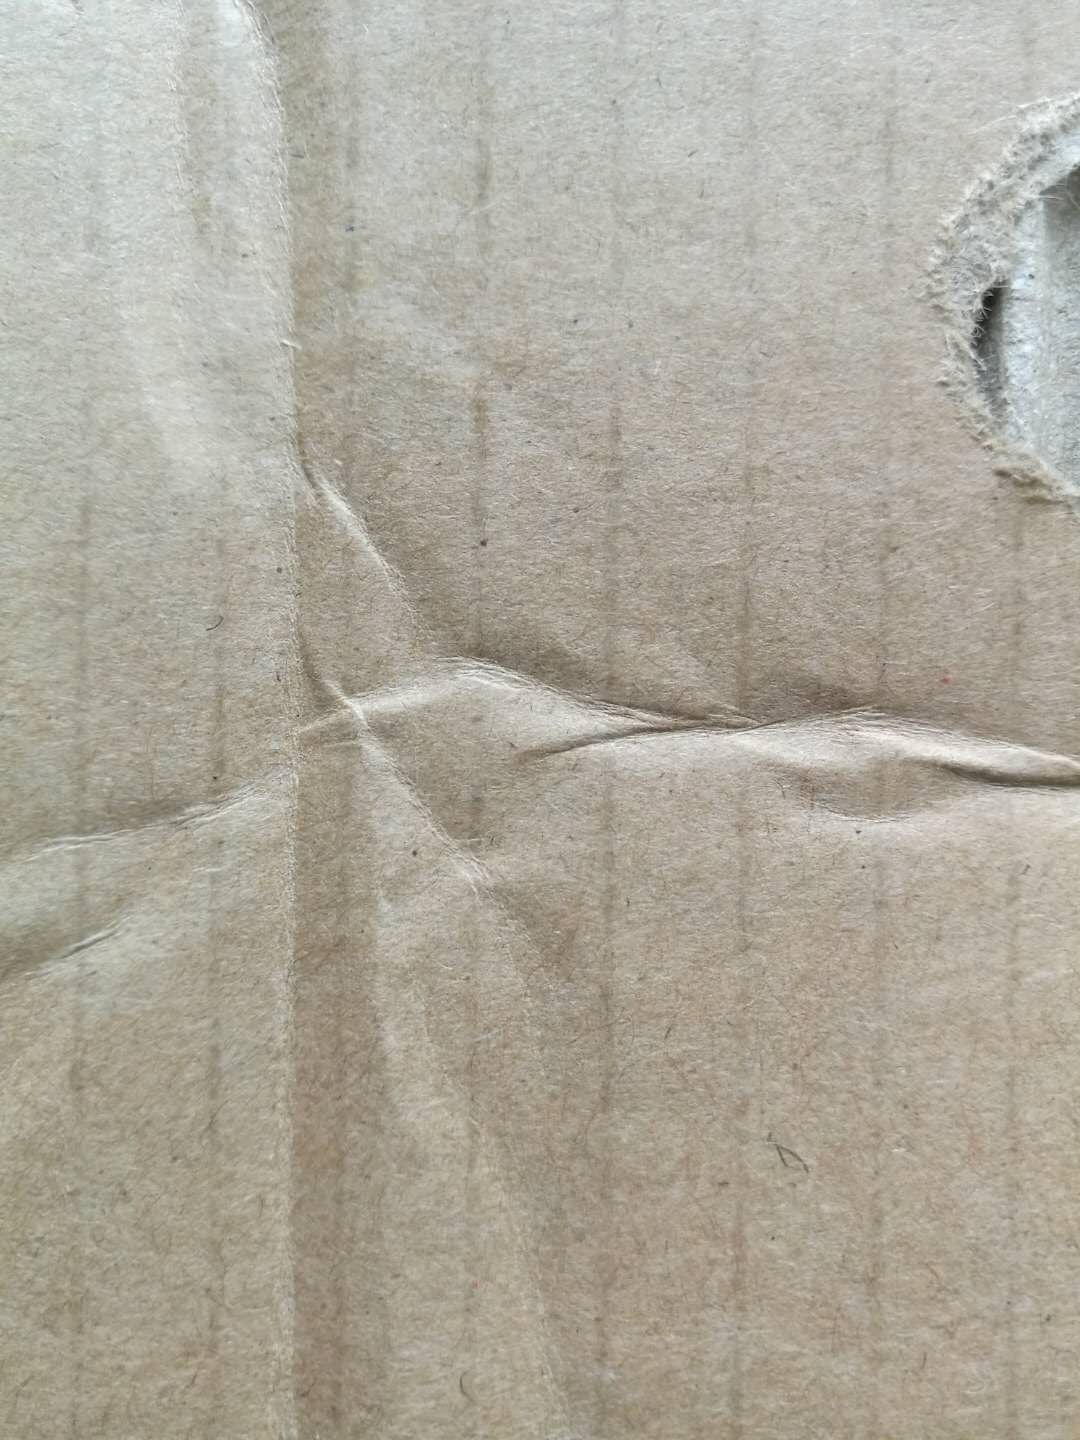defect: (5, 404, 1080, 985), (151, 1, 518, 1438), (906, 68, 1080, 542)
